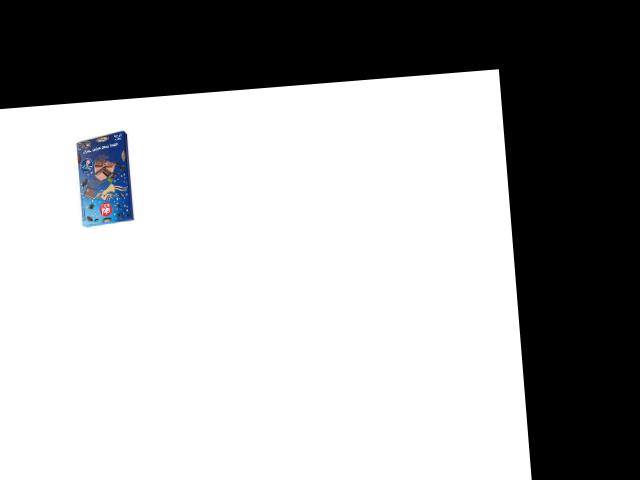chocolate: (68, 129, 140, 229)
